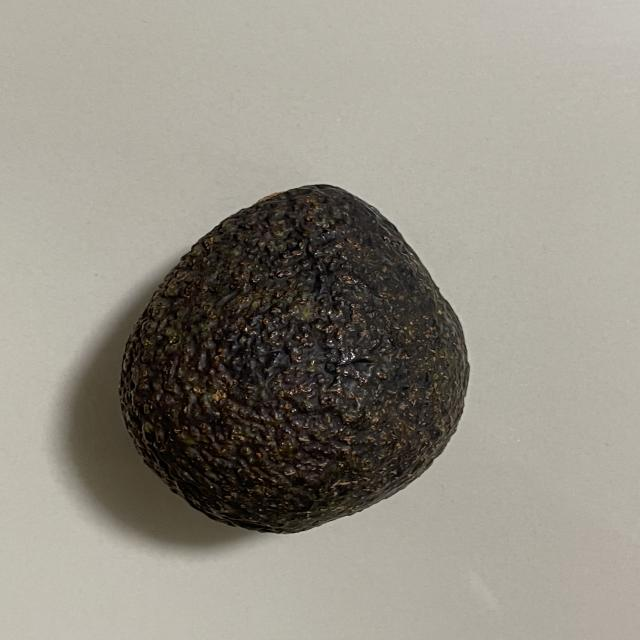Level2: (110, 178, 482, 541)
